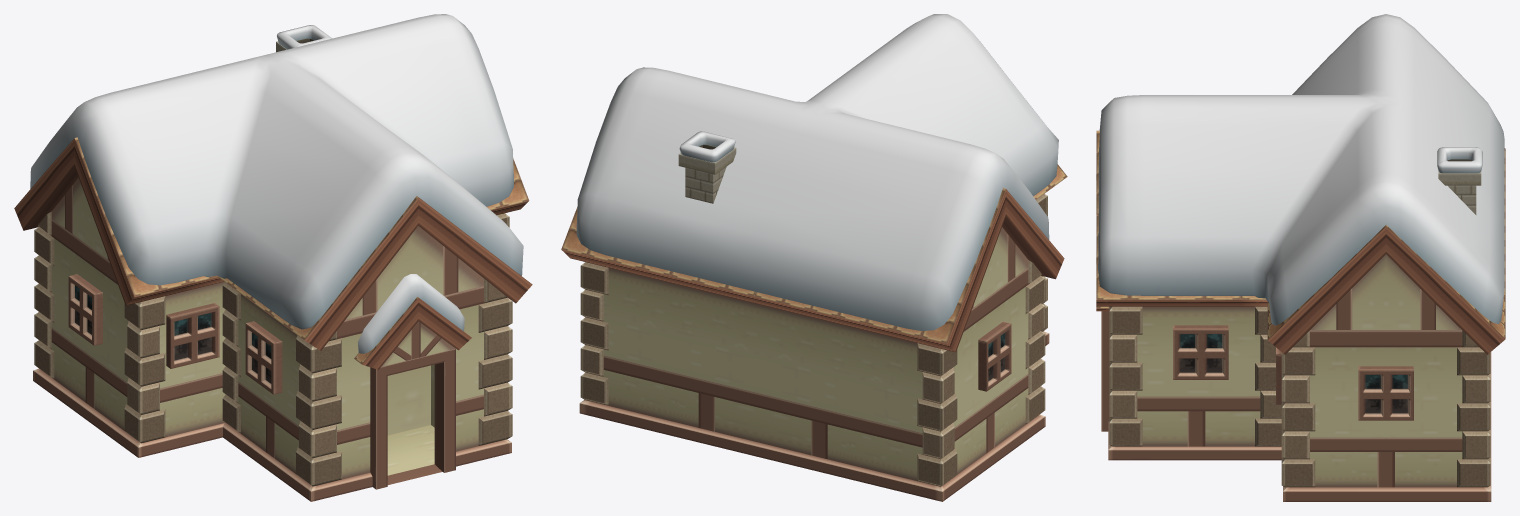
Rendered from Private Dwelling 1 - M - Snow.fbx.
The picture shows the model from 3 angles, left to right: view 1: azimuth 30°, elevation 25°; view 2: azimuth 150°, elevation 25°; view 3: azimuth 270°, elevation 25°; orthographic projection. The views are drawn at different scales.
Visible parts, largest first — view 1: house_m_snow; view 2: house_m_snow; view 3: house_m_snow.
Boxes of the visible parts, <box> form: house_m_snow: <box>14,14,532,501</box>; house_m_snow: <box>561,14,1067,501</box>; house_m_snow: <box>1096,14,1505,501</box>.
Bounding box in the file's own units: 5.59 × 4.3 × 5.07.
